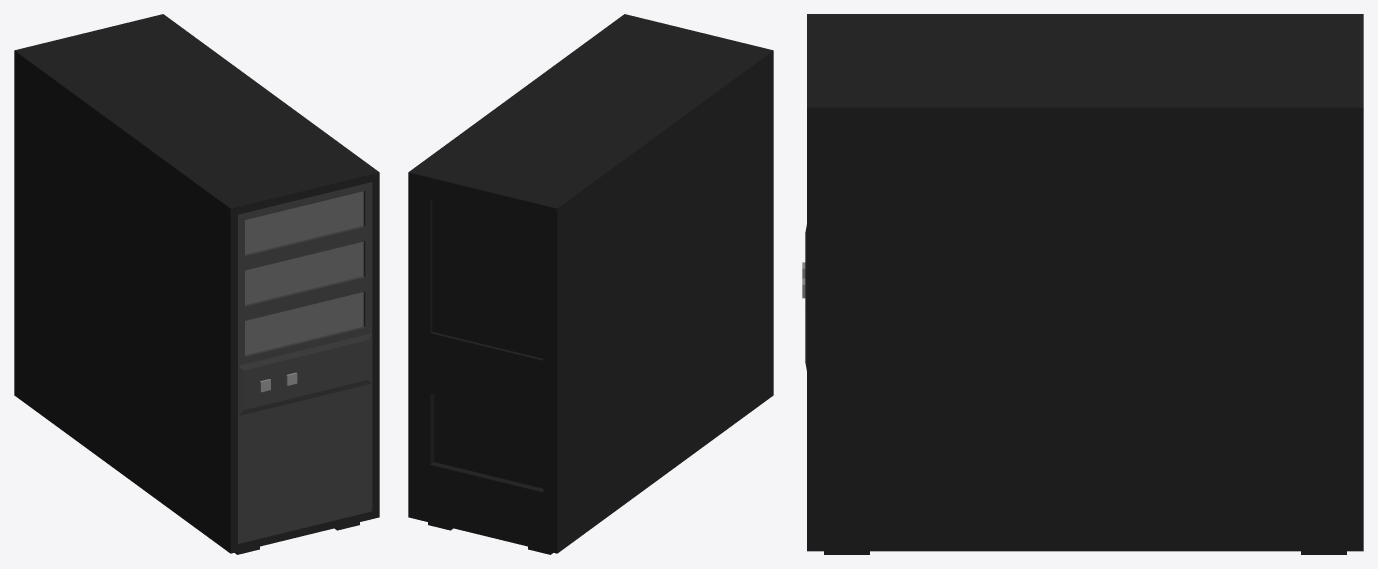
The model's file is PcV1Black.fbx.
3 renders of one model, left to right at view 1: azimuth 30°, elevation 25°; view 2: azimuth 150°, elevation 25°; view 3: azimuth 270°, elevation 25°, orthographic. The views are drawn at different scales.
Parts seen in each view (by area): view 1: PcV1Black; view 2: PcV1Black; view 3: PcV1Black.
Part boxes in pixels (box(x1,y1,x2,y2)): PcV1Black: box(14, 14, 379, 554); PcV1Black: box(408, 14, 773, 554); PcV1Black: box(802, 14, 1363, 554).
Bounding box in the file's own units: 22.61 × 51.35 × 57.34.
